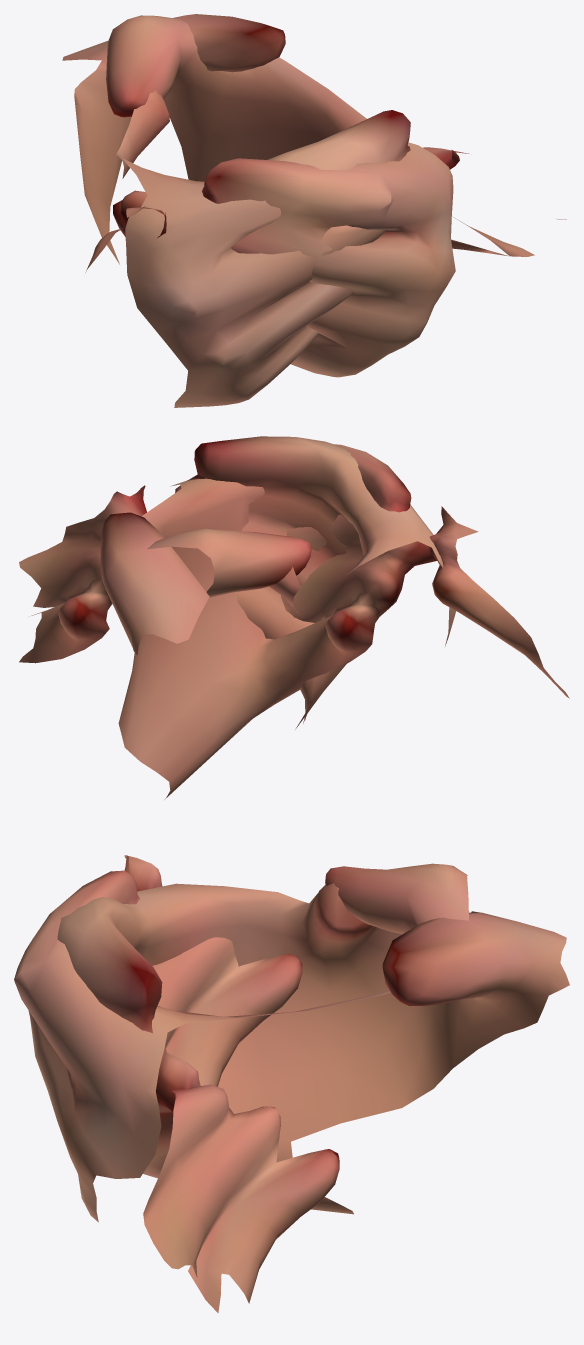
File: gabizinsky-maos.glb
3 renders of one model, top to bottom at view 1: azimuth 30°, elevation 25°; view 2: azimuth 150°, elevation 25°; view 3: azimuth 270°, elevation 25°, orthographic. The views are drawn at different scales.
Parts seen in each view (by area): view 1: Esq, Dir; view 2: Esq, Dir; view 3: Dir, Esq.
Boxes of the visible parts, x1=… form: Esq: x1=85, y1=15, x2=455, y2=377; Dir: x1=62, y1=14, x2=566, y2=407; Esq: x1=118, y1=444, x2=569, y2=799; Dir: x1=19, y1=436, x2=455, y2=729; Dir: x1=57, y1=883, x2=569, y2=1312; Esq: x1=14, y1=855, x2=468, y2=1222.
Bounding box in the file's own units: 0.192 × 0.1067 × 0.1403.
